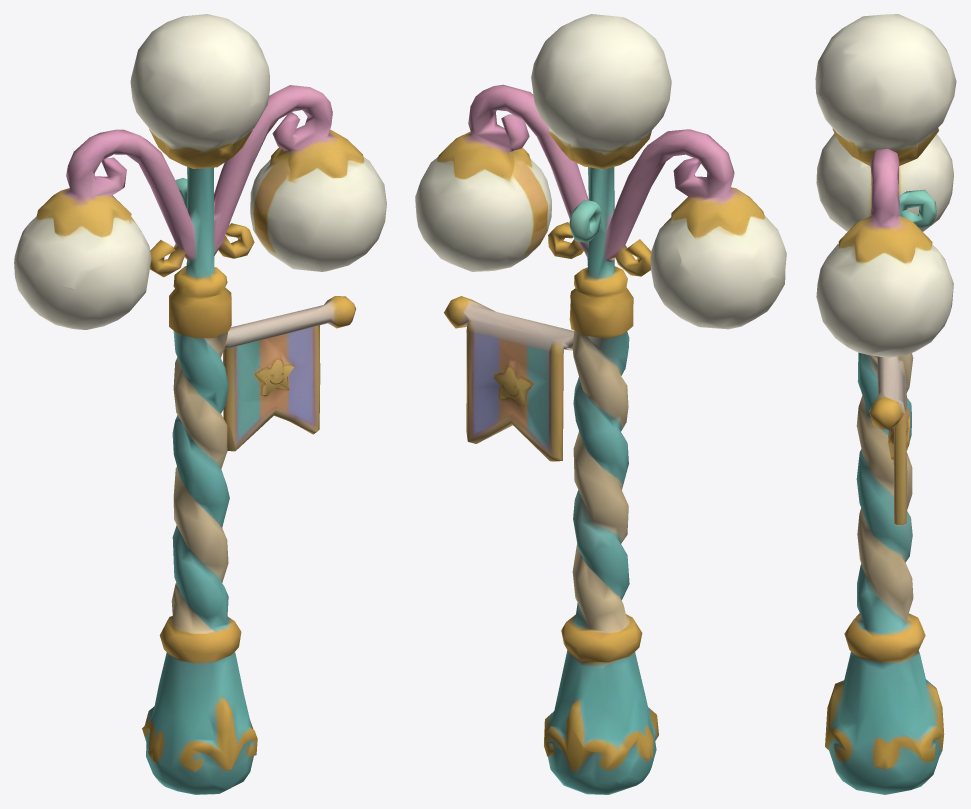
Rendered from lampadaire.glb.
3 views of the same model, side by side, from view 1: azimuth 30°, elevation 25°; view 2: azimuth 150°, elevation 25°; view 3: azimuth 270°, elevation 25° (orthographic).
Visible parts, largest first — view 1: tripo_node_70746ea3-b731-48c9-893b-099cdfef948d; view 2: tripo_node_70746ea3-b731-48c9-893b-099cdfef948d; view 3: tripo_node_70746ea3-b731-48c9-893b-099cdfef948d.
Part boxes in pixels (x1,y1,x2,y2): tripo_node_70746ea3-b731-48c9-893b-099cdfef948d: (14, 14, 386, 794); tripo_node_70746ea3-b731-48c9-893b-099cdfef948d: (415, 14, 786, 794); tripo_node_70746ea3-b731-48c9-893b-099cdfef948d: (815, 14, 956, 794).
Bounding box in the file's own units: 0.4898 × 1 × 0.1682.
1 material, 1 textured.
